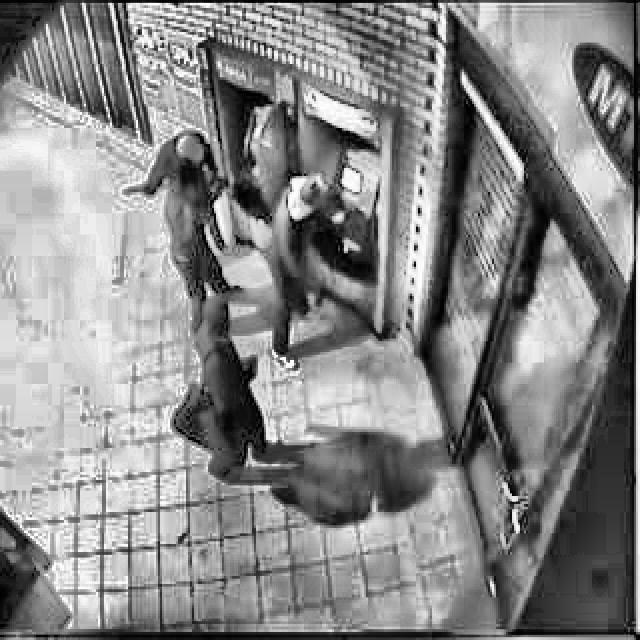burglary: (117, 95, 384, 482)
